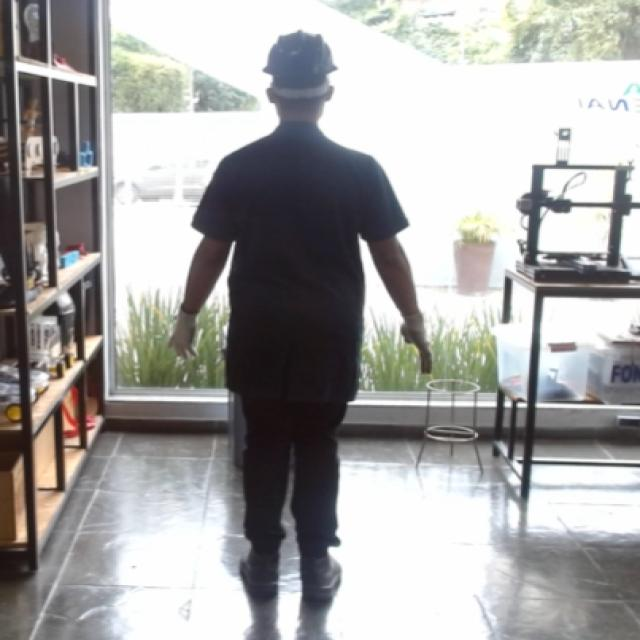BOTA: (232, 549, 294, 605), (301, 546, 348, 604)
CAPACETE: (262, 26, 347, 102)
JALECO: (182, 119, 417, 404)
LUVA: (396, 308, 433, 378), (168, 300, 203, 362)
